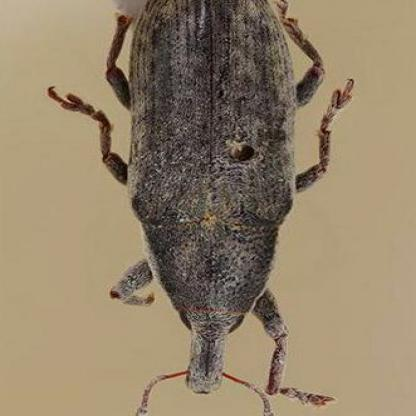rice-bug: (55, 2, 355, 398)
